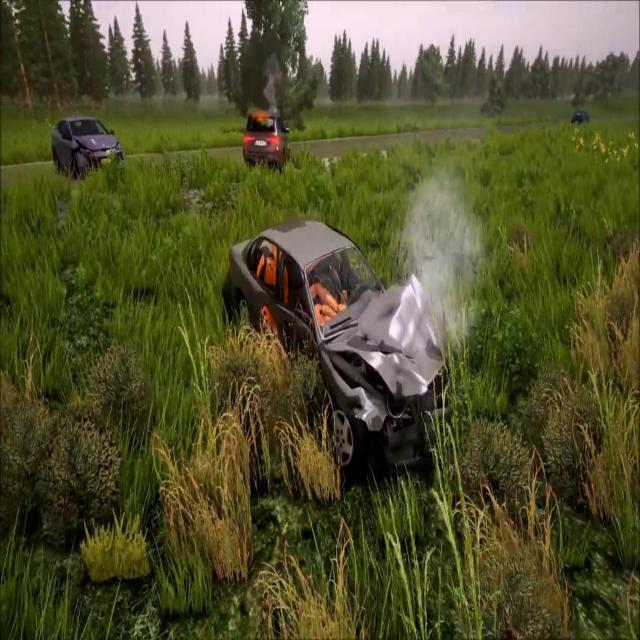accident: (216, 206, 460, 489)
